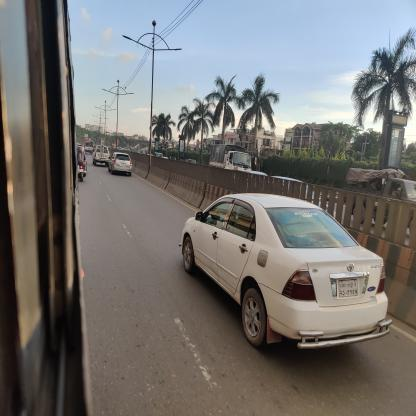license_plate: (337, 276, 360, 300)
